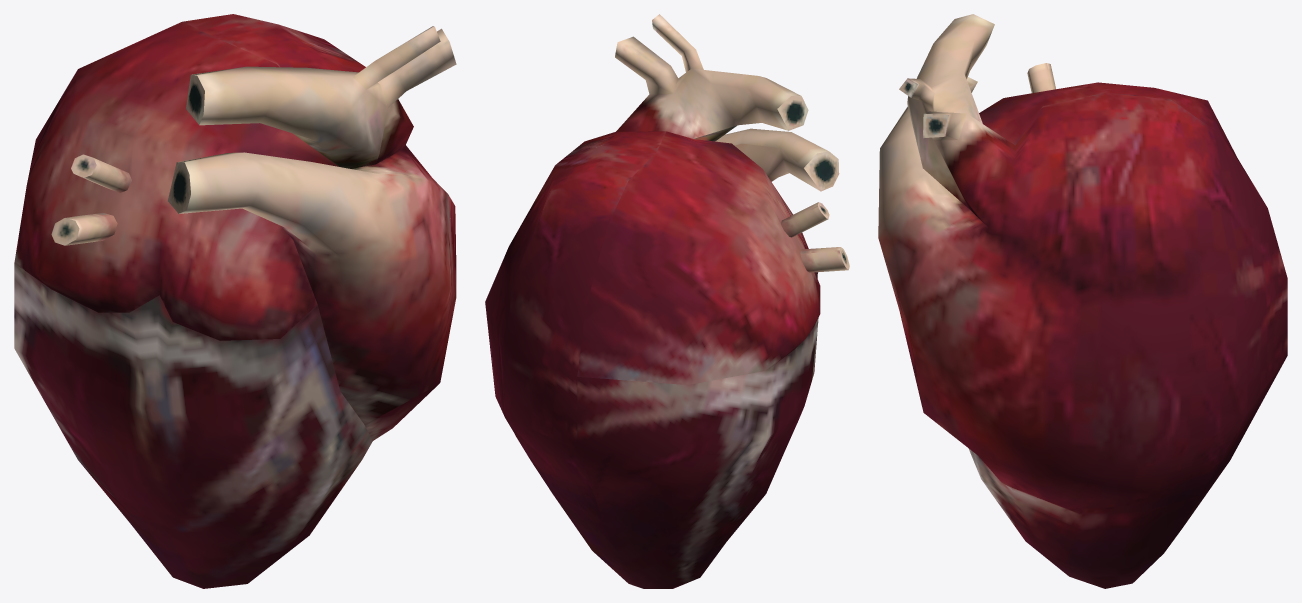
File: eqp_organ_heart_s02_l0.fbx
The picture shows the model from 3 angles, left to right: view 1: azimuth 30°, elevation 25°; view 2: azimuth 150°, elevation 25°; view 3: azimuth 270°, elevation 25°; orthographic projection. The views are drawn at different scales.
Visible parts, largest first — view 1: mesh_node; view 2: mesh_node; view 3: mesh_node.
Boxes of the visible parts, left/top/right/bottom form: mesh_node: left=14, top=14, right=456, bottom=588; mesh_node: left=485, top=14, right=849, bottom=588; mesh_node: left=878, top=14, right=1287, bottom=588.
Bounding box in the file's own units: 0.0928 × 0.1361 × 0.0915.
Materials: 1 (1 with a texture image).
